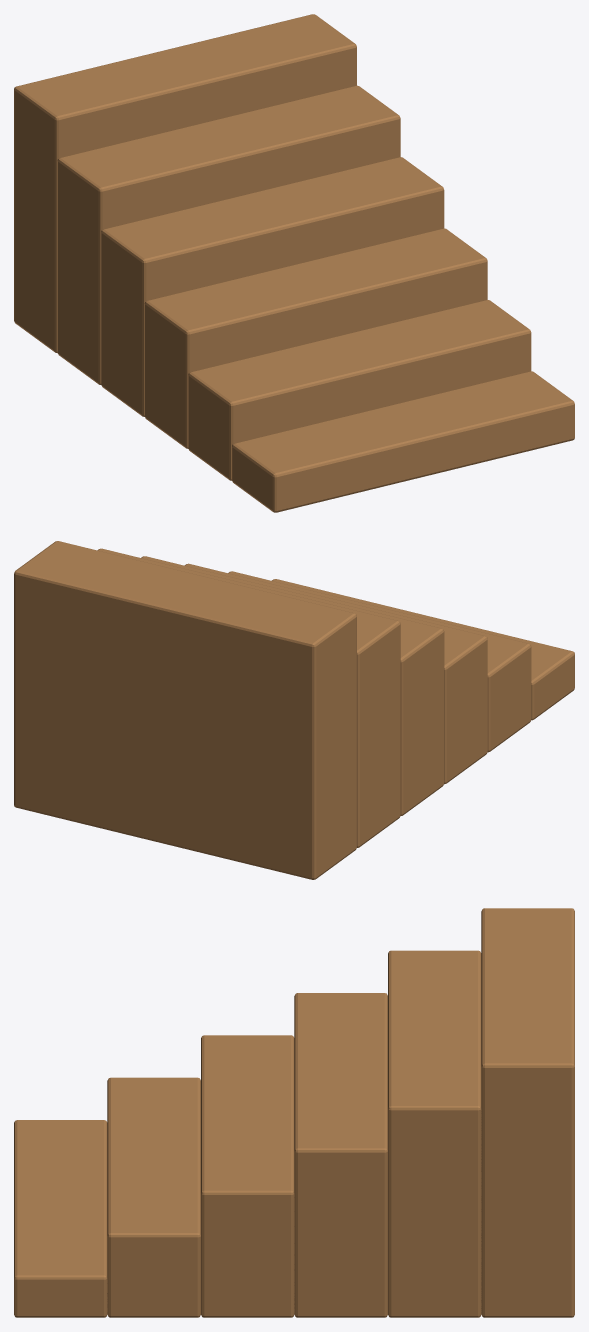
File: stair_straight_2x3x1p5.glb
3 views of the same model, one above another, from view 1: azimuth 30°, elevation 25°; view 2: azimuth 150°, elevation 25°; view 3: azimuth 270°, elevation 25° (orthographic). The views are drawn at different scales.
Visible parts, largest first — view 1: stair_step_06, stair_step_05, stair_step_04, stair_step_03, stair_step_02, stair_step_01; view 2: stair_step_06, stair_step_05, stair_step_04, stair_step_03, stair_step_02, stair_step_01; view 3: stair_step_06, stair_step_05, stair_step_04, stair_step_03, stair_step_02, stair_step_01.
Part boxes in pixels (box(x1,y1,x2,y2)): stair_step_06: box(14, 14, 356, 353); stair_step_05: box(57, 85, 400, 384); stair_step_04: box(101, 157, 444, 416); stair_step_03: box(144, 228, 487, 448); stair_step_02: box(188, 300, 531, 480); stair_step_01: box(232, 371, 574, 512); stair_step_06: box(14, 541, 356, 879); stair_step_05: box(97, 548, 400, 847); stair_step_04: box(141, 556, 444, 816); stair_step_03: box(184, 563, 487, 784); stair_step_02: box(228, 571, 531, 752); stair_step_01: box(272, 579, 574, 720); stair_step_06: box(481, 908, 574, 1317); stair_step_05: box(388, 950, 481, 1317); stair_step_04: box(294, 993, 387, 1317); stair_step_03: box(201, 1035, 294, 1317); stair_step_02: box(107, 1077, 200, 1317); stair_step_01: box(14, 1120, 107, 1317).
Bounding box in the file's own units: 2 × 1.5 × 3.
